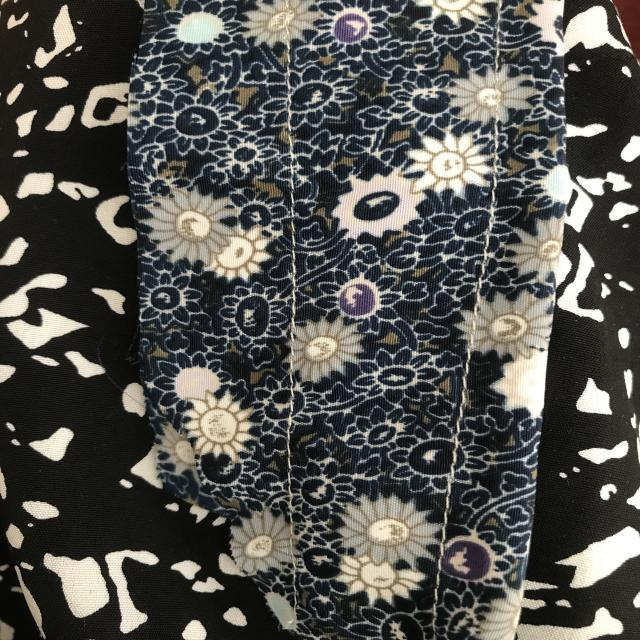good: (276, 83, 314, 290), (273, 389, 307, 493), (452, 357, 471, 472)
